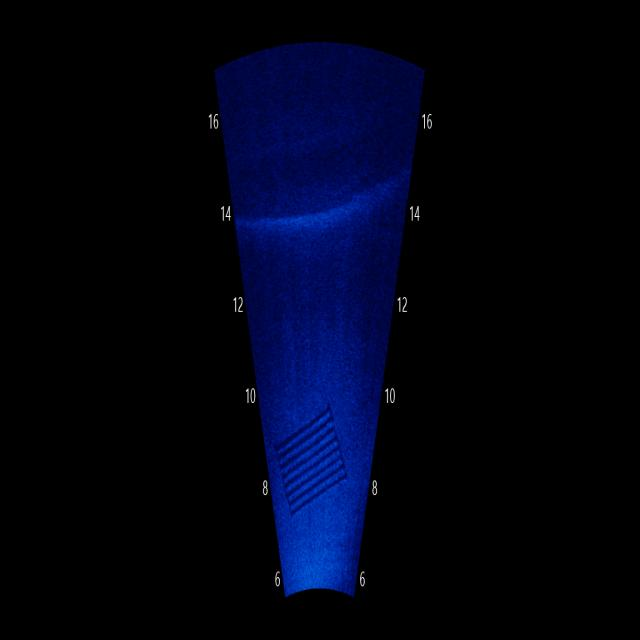square: (276, 403, 350, 522)
